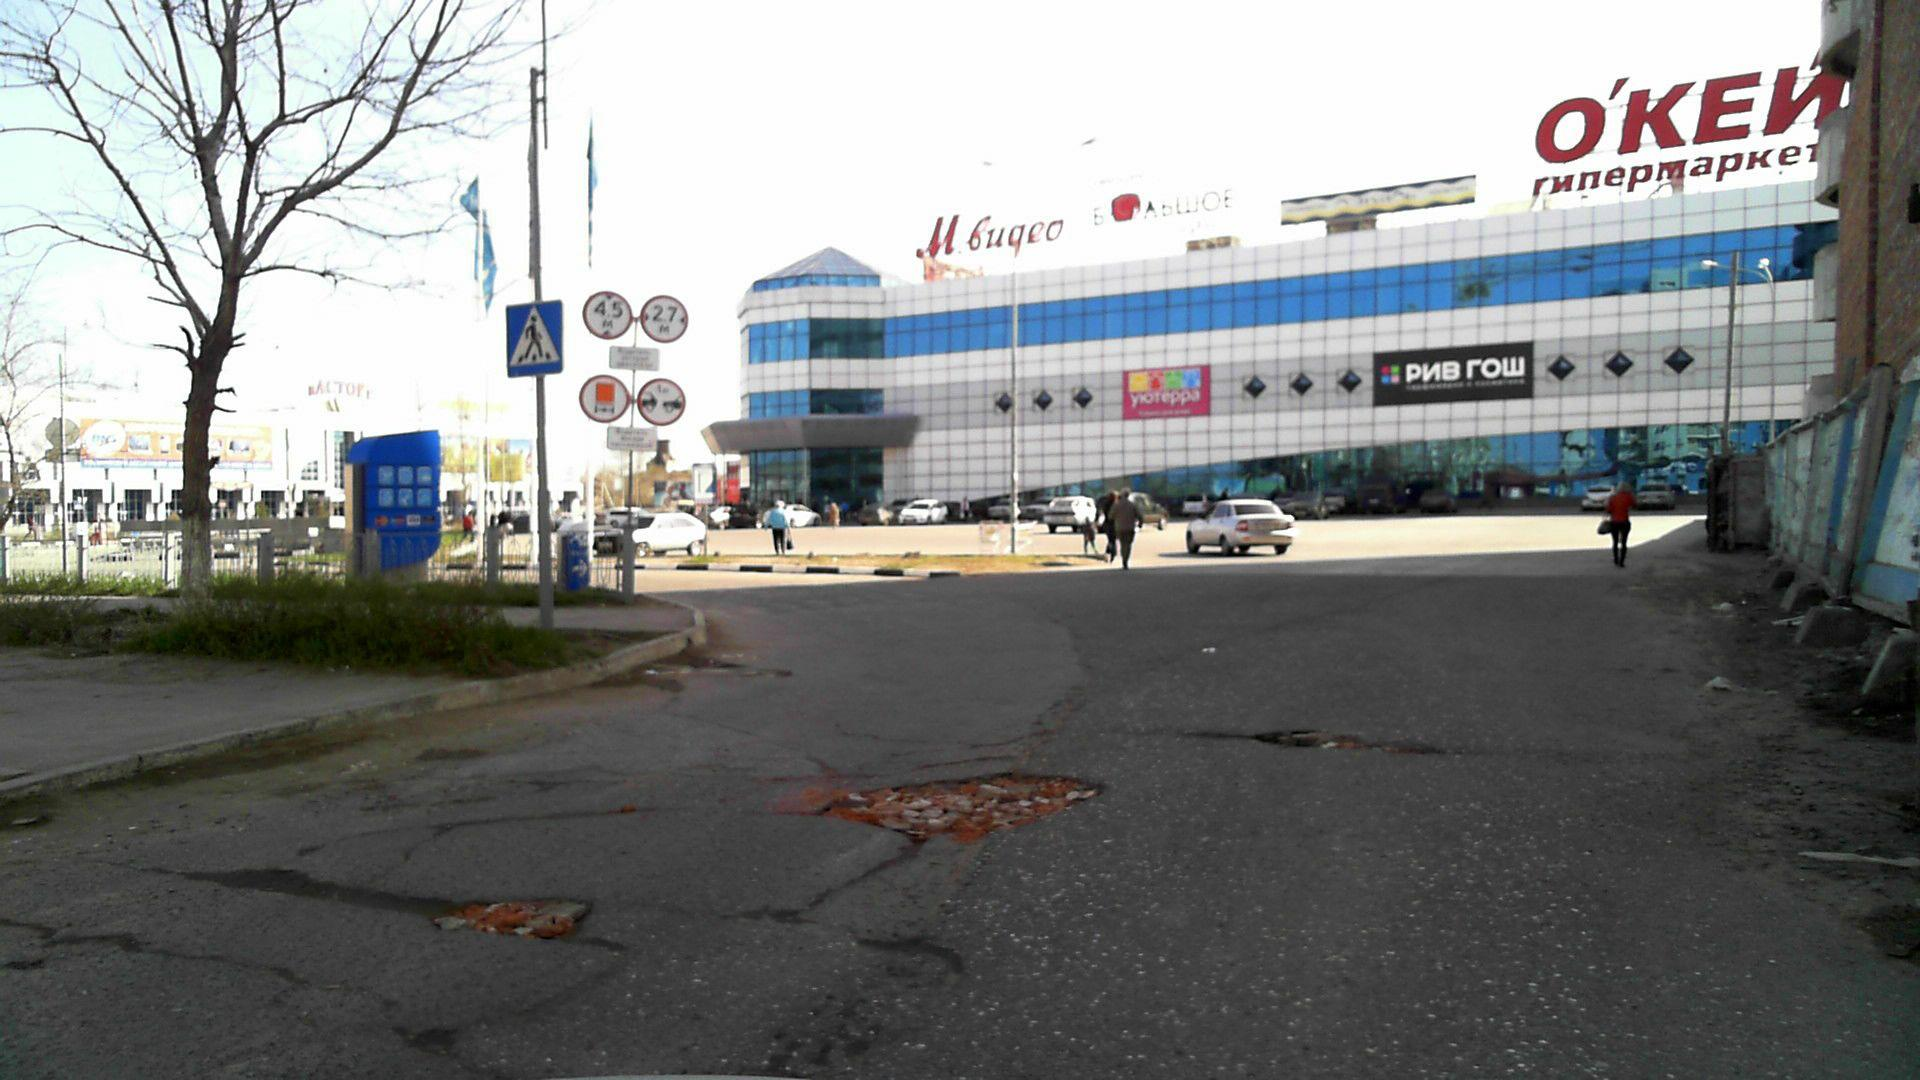3_13: (584, 289, 630, 340)
3_14: (638, 294, 689, 345)
3_16: (638, 379, 686, 425)
3_32: (579, 372, 632, 423)
5_19_2: (500, 299, 565, 377)
